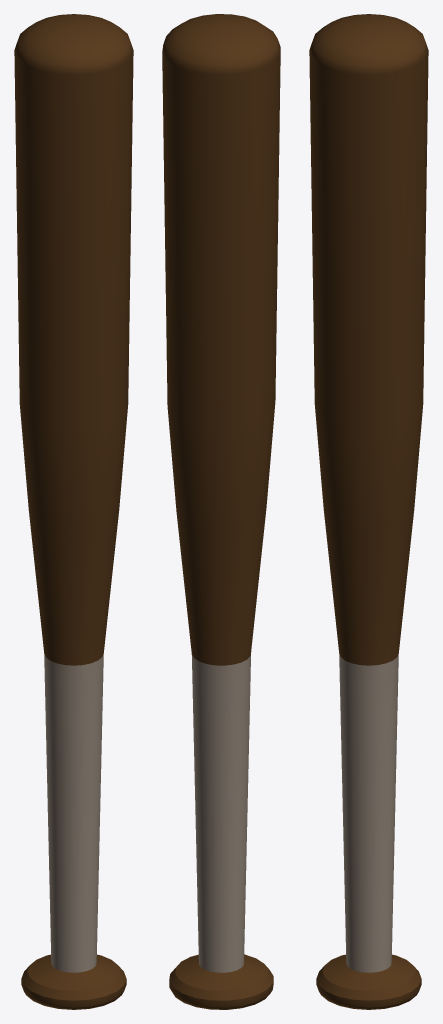
File: Baseball Bat.fbx
3 renders of one model, left to right at view 1: azimuth 90°, elevation 25°; view 2: azimuth 150°, elevation 25°; view 3: azimuth 270°, elevation 25°, orthographic.
Parts seen in each view (by area): view 1: pCylinder2; view 2: pCylinder2; view 3: pCylinder2.
Boxes of the visible parts, x1,y1,x2,y2 form: pCylinder2: (14,14,133,1009); pCylinder2: (162,14,280,1009); pCylinder2: (309,14,428,1009).
Size of the model in its own units: 0.2568 by 2.3 by 0.2568.
